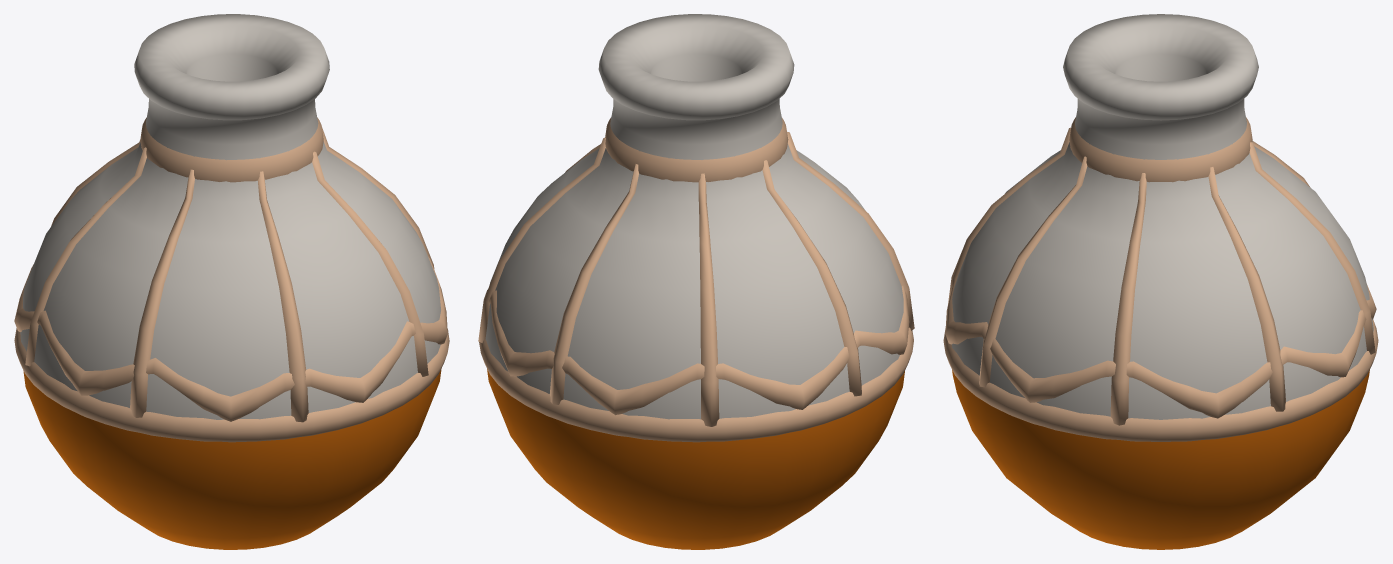
The model's file is Flask.fbx.
The picture shows the model from 3 angles, left to right: view 1: azimuth 30°, elevation 25°; view 2: azimuth 150°, elevation 25°; view 3: azimuth 270°, elevation 25°; orthographic projection.
Parts seen in each view (by area): view 1: Sphere.003; view 2: Sphere.003; view 3: Sphere.003.
Boxes of the visible parts, bbox=[...] form: Sphere.003: bbox=[14, 14, 449, 549]; Sphere.003: bbox=[478, 14, 914, 549]; Sphere.003: bbox=[943, 14, 1378, 549].
Bounding box in the file's own units: 13.15 × 15.45 × 13.15.
